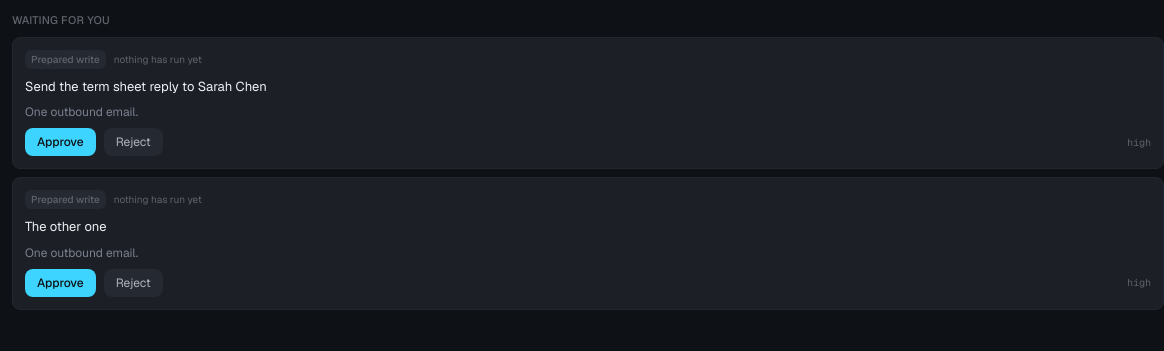
Test case: PreparedQueue › a failed decision costs its own row, not the queue
Check: the text "The other one" is shown, box left=25, top=218, right=106, bottom=235
Step 1. Click the button "Reject" below "Send the term sheet reply to Sarah Chen" → coordinates (133, 142), box left=104, top=128, right=163, bottom=156
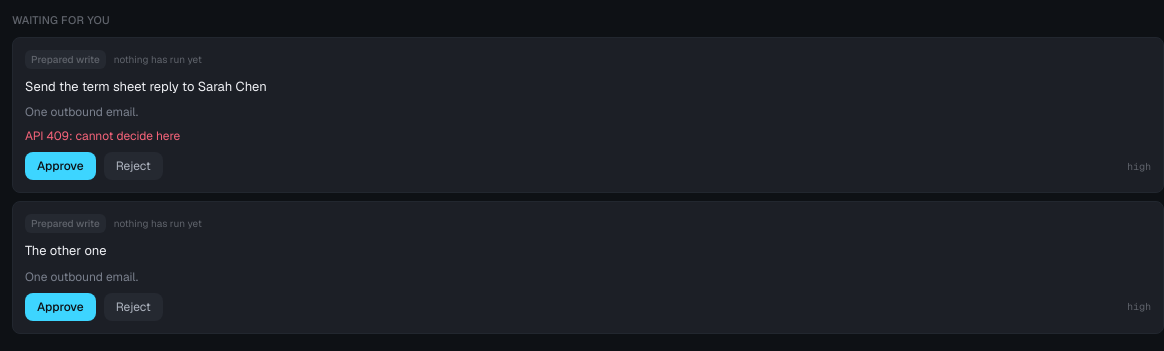
Check: the text "The other one" is shown, box left=25, top=242, right=106, bottom=259
Check: the text "API 409: cannot decide here" is shown, box left=25, top=128, right=180, bottom=144
